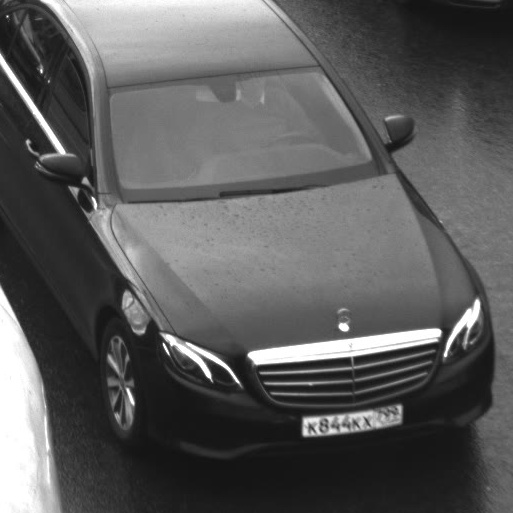plate: (291, 396, 411, 444)
